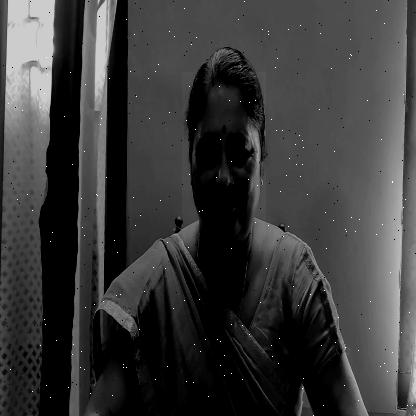Normal: (182, 72, 266, 251)
